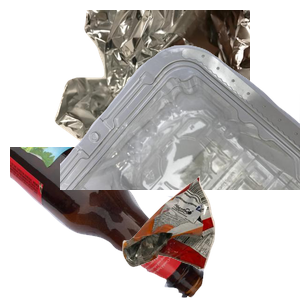glass: (10, 147, 207, 300)
metal: (52, 10, 292, 190)
plastic: (60, 43, 300, 223)
trash: (120, 174, 300, 300)
